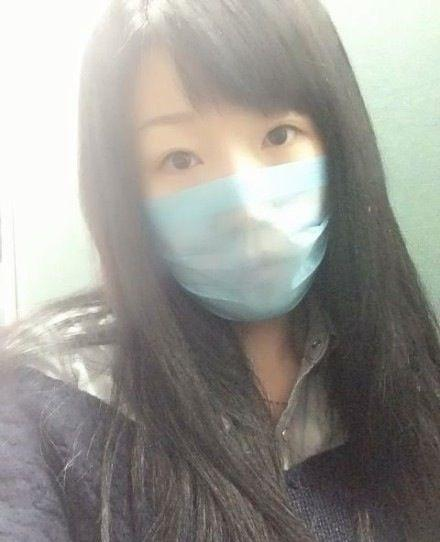OK: (139, 101, 350, 309)
